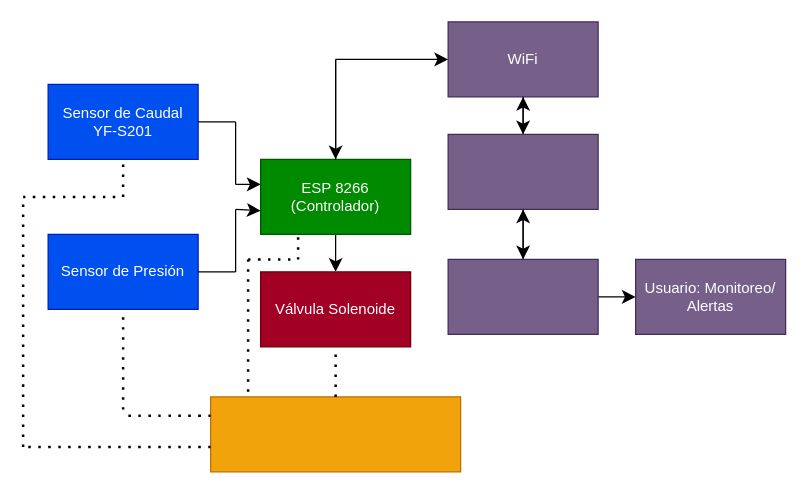
This 808x494 diagram has some shape labels left out. The shapes that lost their labels are listed below. From the top down, each one's centre as x and y in pixels, then its label:
At (522,171): "Celular".
At (522,296): "Blynk (PC)".
At (335,434): "Fuente de Alimentación".
